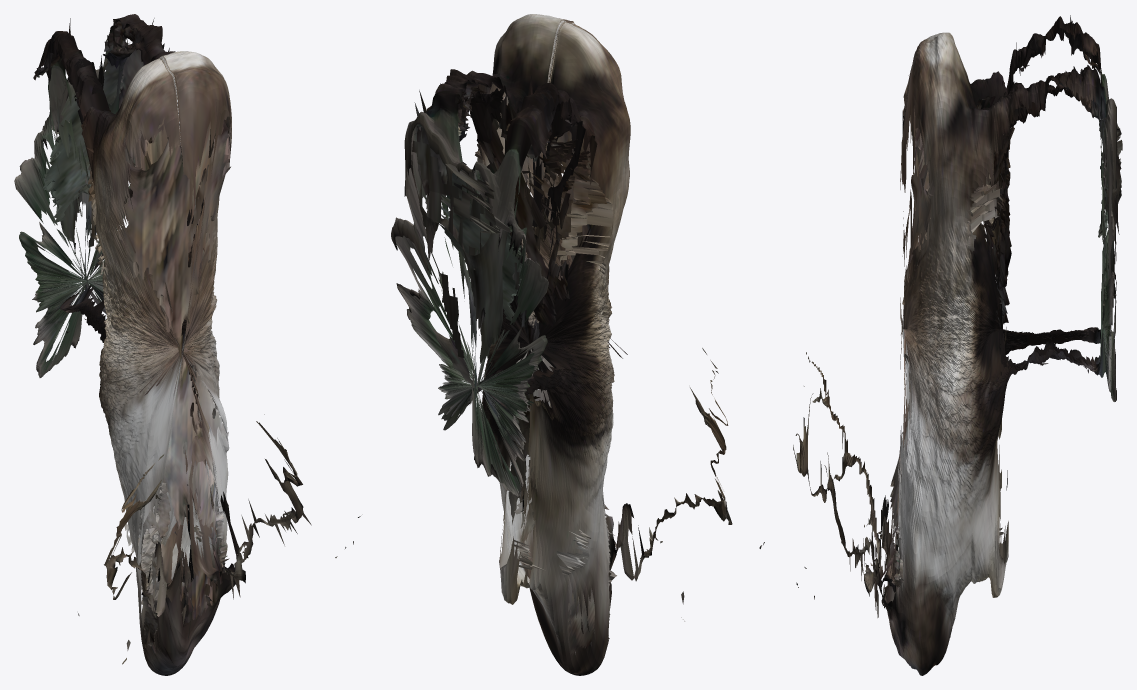
The model's file is snap48_mesh.glb.
3 renders of one model, left to right at view 1: azimuth 30°, elevation 25°; view 2: azimuth 150°, elevation 25°; view 3: azimuth 270°, elevation 25°, orthographic. The views are drawn at different scales.
Visible parts, largest first — view 1: ipn, fill; view 2: ipn, fill; view 3: ipn, fill.
Boxes of the visible parts, box(x1,y1,x2,y2) form: ipn: box(14, 14, 360, 675); fill: box(42, 21, 291, 653); ipn: box(391, 14, 764, 675); fill: box(410, 81, 650, 655); ipn: box(793, 15, 1116, 675); fill: box(859, 56, 1122, 637).
Bounding box in the file's own units: 0.8488 × 1.83 × 0.8481.
Materials: 2 (1 with a texture image).
